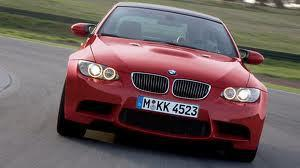Car: (50, 1, 274, 168)
